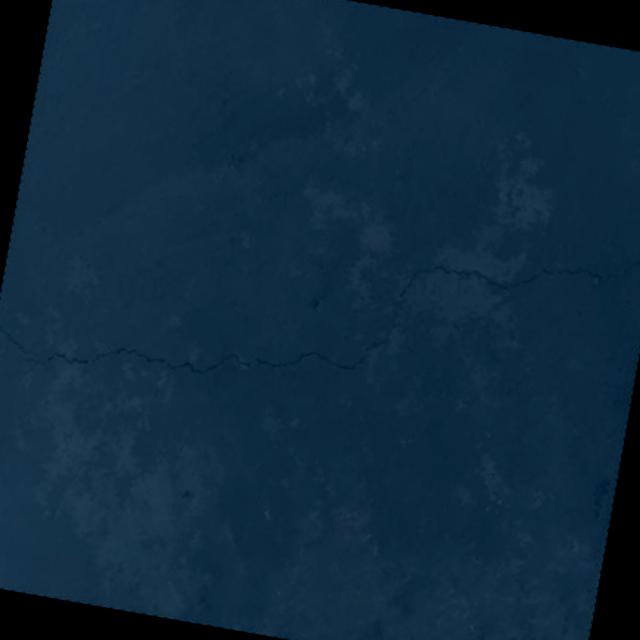crack: (0, 139, 640, 468)
